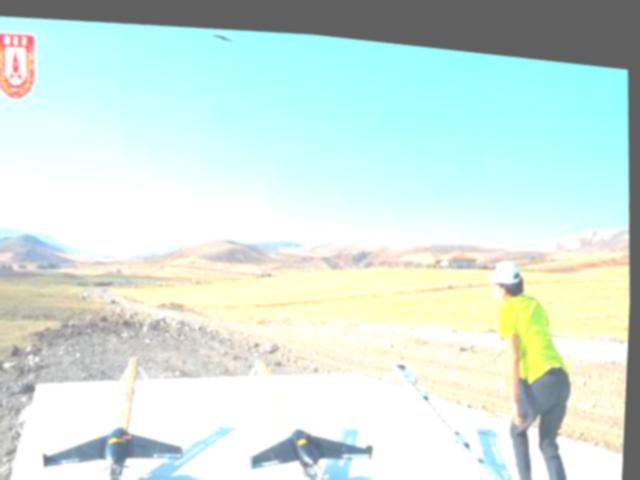uav: (42, 406, 194, 480), (245, 409, 384, 479), (210, 23, 235, 41)
